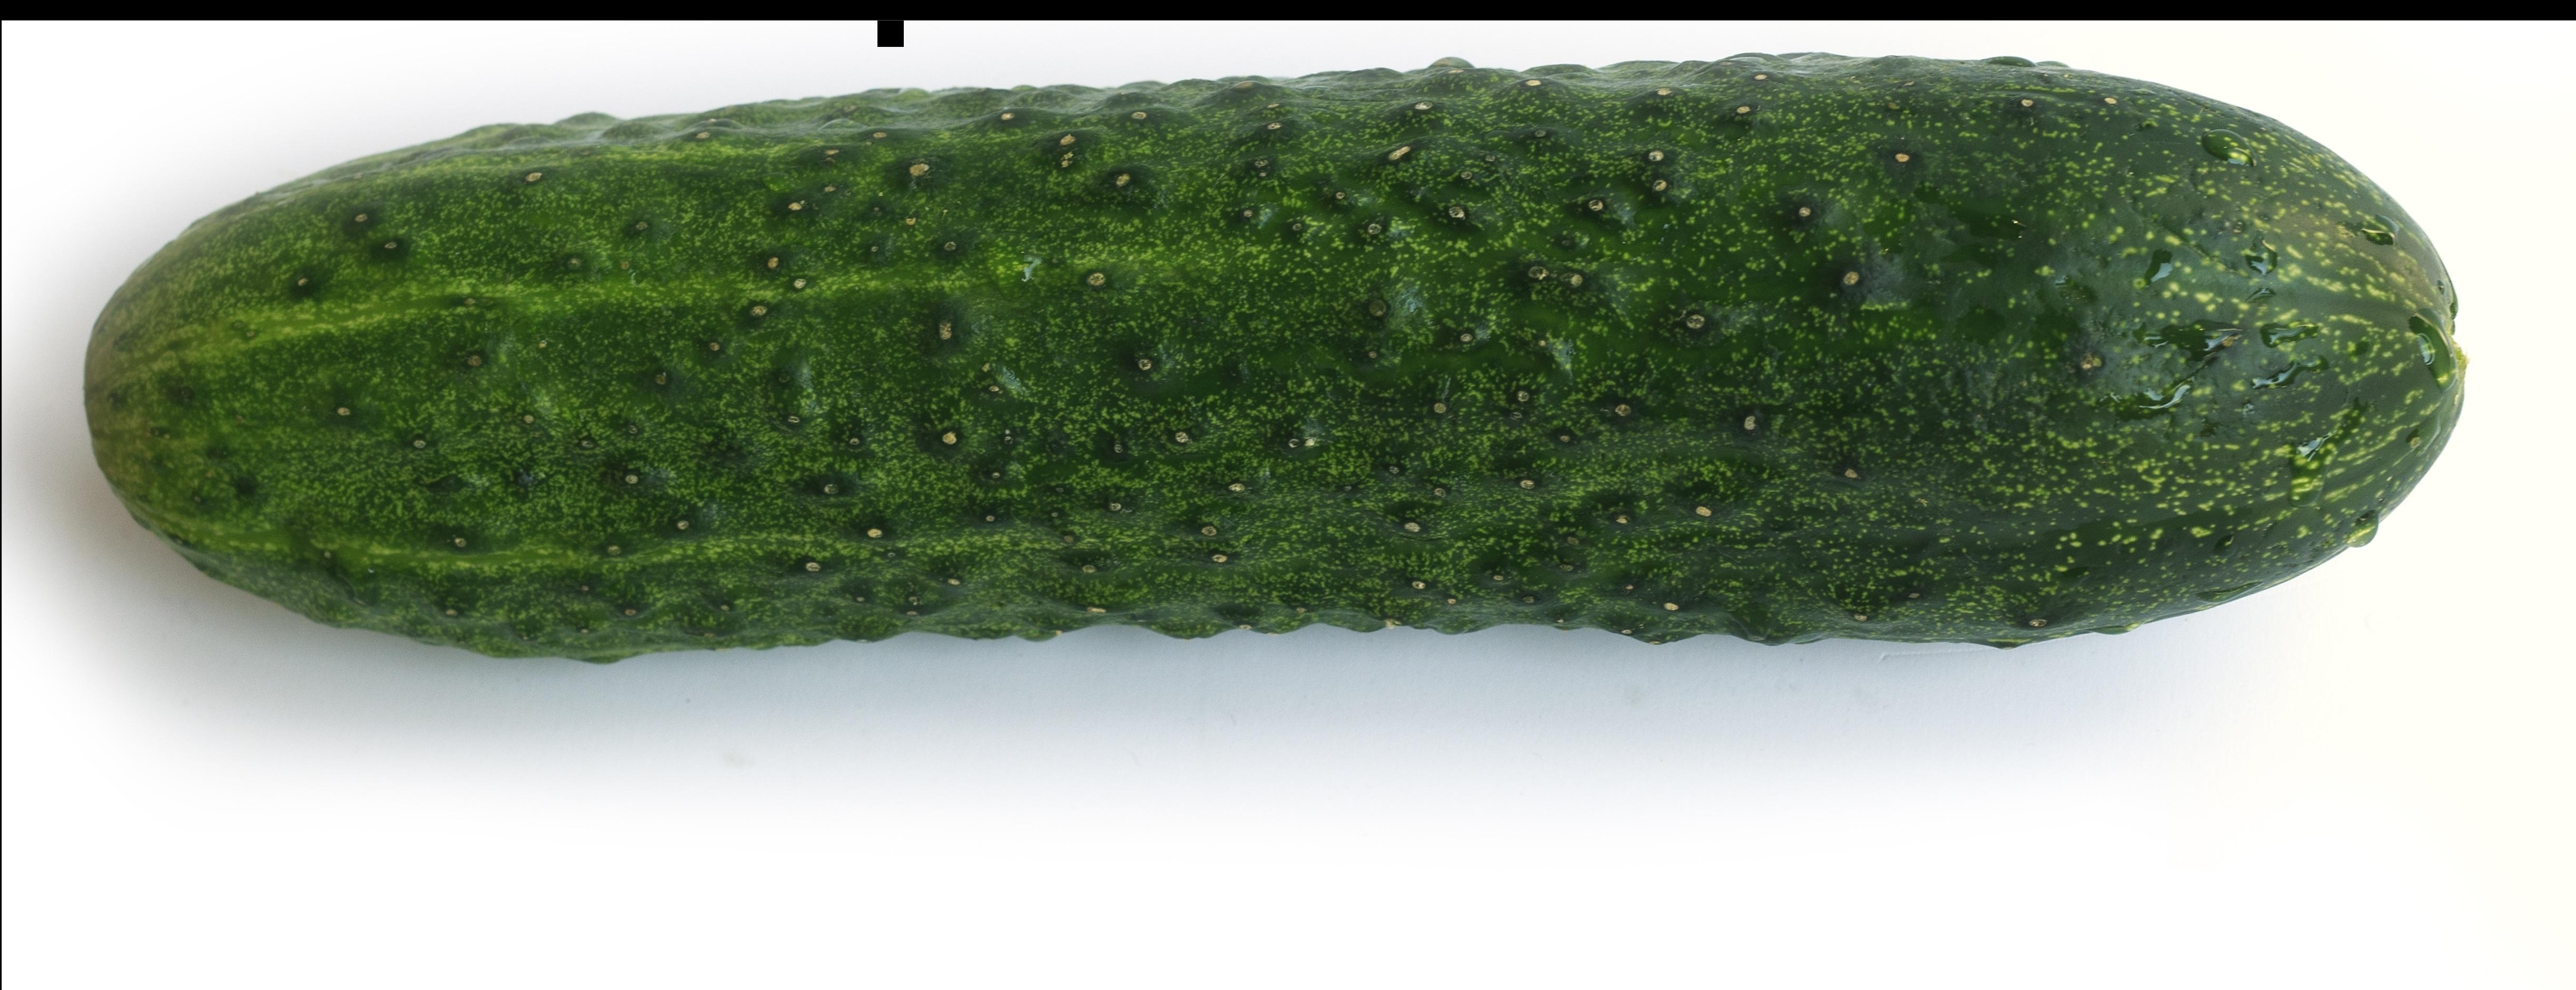cucumber: (62, 56, 2476, 705)
